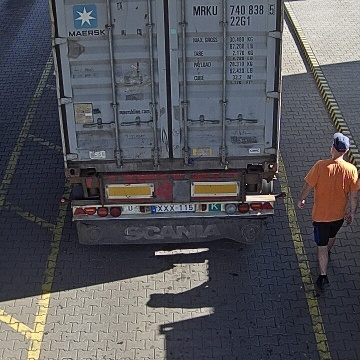serial_id: (193, 4, 274, 15)
